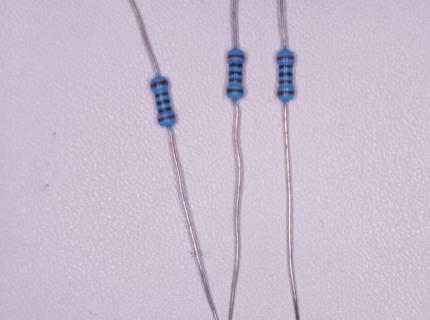Black band: (157, 99, 171, 106), (158, 107, 172, 113), (279, 72, 292, 77), (230, 62, 243, 67), (279, 65, 293, 69), (229, 71, 242, 75)
Brown band: (151, 80, 169, 88), (155, 91, 169, 98), (278, 90, 294, 96), (227, 88, 244, 93), (229, 78, 242, 83), (279, 80, 292, 84)
Red band: (157, 114, 175, 122), (277, 55, 294, 60), (228, 54, 245, 58)
